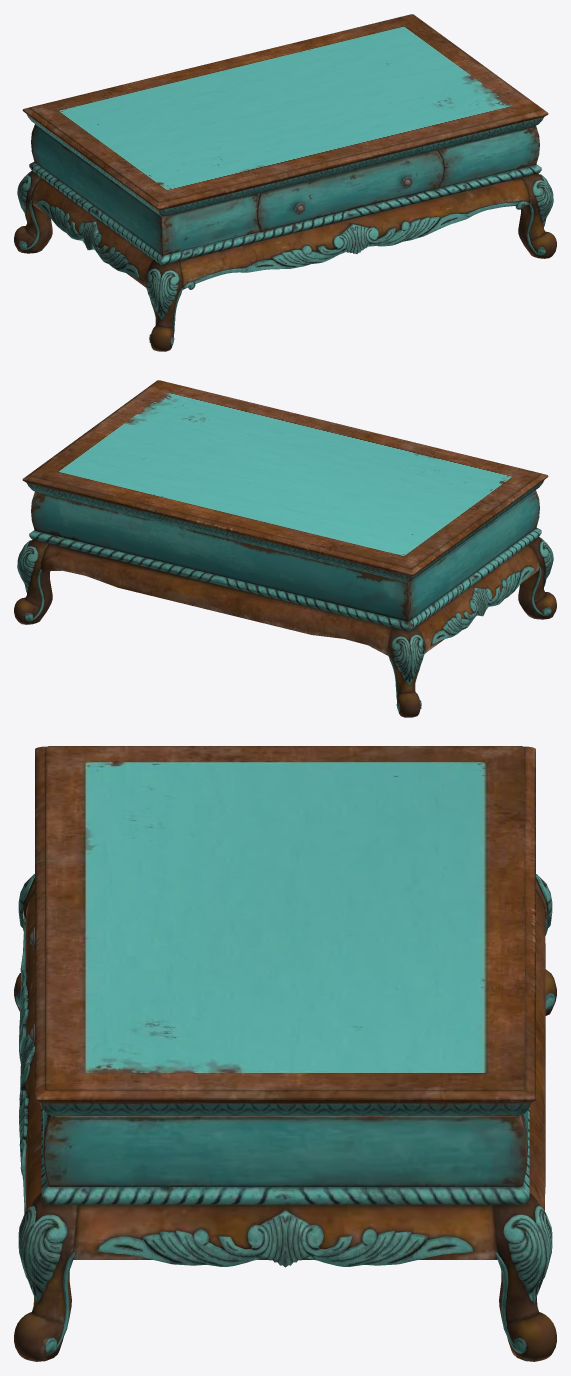
Rendered from CoffeeTable_01.glb.
3 renders of one model, top to bottom at view 1: azimuth 30°, elevation 25°; view 2: azimuth 150°, elevation 25°; view 3: azimuth 270°, elevation 25°, orthographic. The views are drawn at different scales.
Visible parts, largest first — view 1: CoffeeTable_01; view 2: CoffeeTable_01; view 3: CoffeeTable_01.
Part boxes in pixels (x1,y1,x2,y2): CoffeeTable_01: [14, 14, 556, 351]; CoffeeTable_01: [14, 380, 556, 717]; CoffeeTable_01: [14, 746, 556, 1361].
Bounding box in the file's own units: 1.54 × 0.5232 × 0.9728.
1 material, 1 textured.
